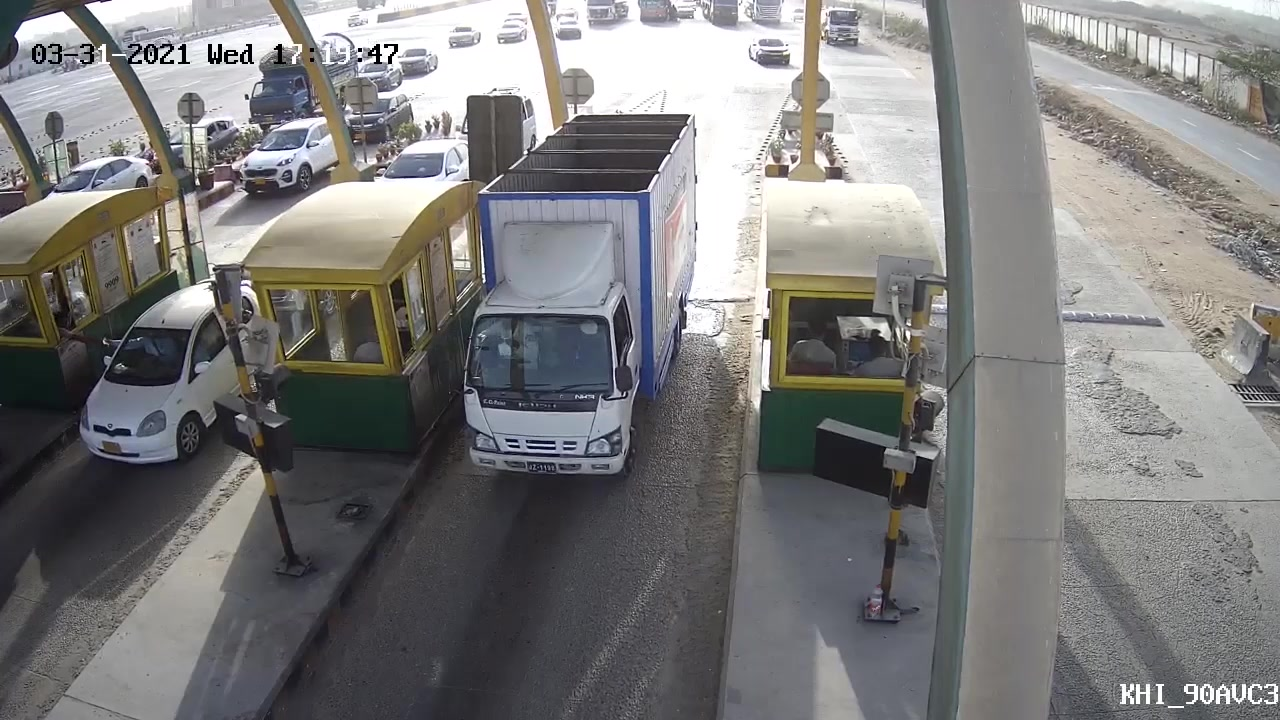F5: (412, 113, 708, 488)
